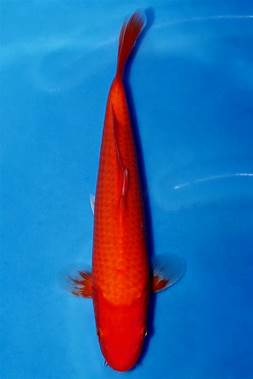red: (65, 9, 183, 373)
